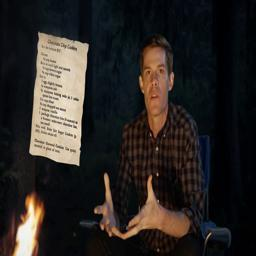fire: (11, 193, 45, 256)
